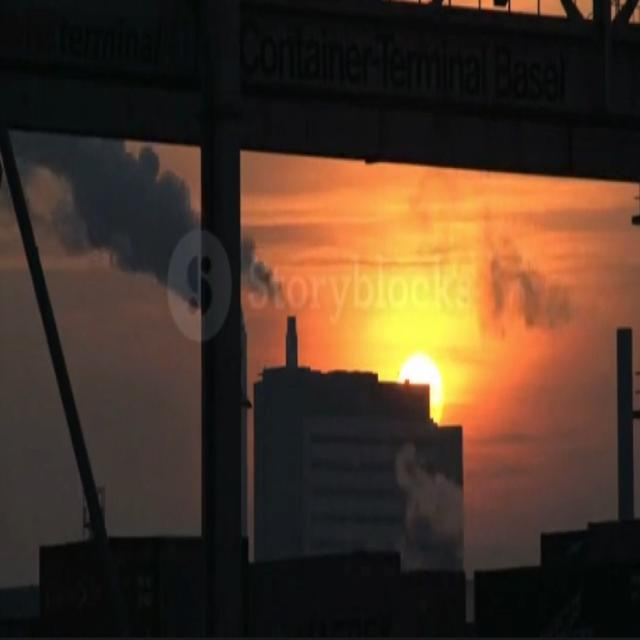smoke: (12, 136, 198, 284), (483, 237, 587, 337), (241, 232, 284, 302)
